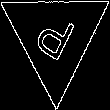P_SW: (31, 6, 80, 69)
